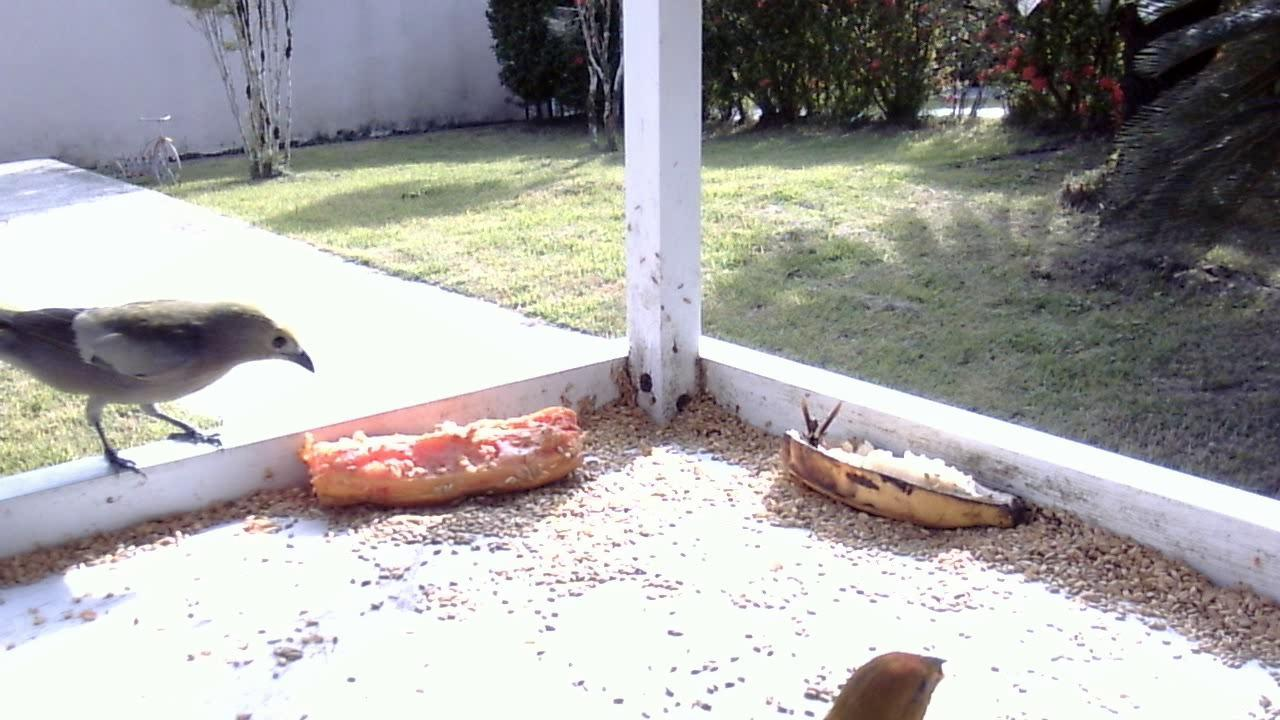canario_do_amazonas: (807, 641, 955, 720)
sanhaco_do_coqueiro: (9, 275, 329, 501)
